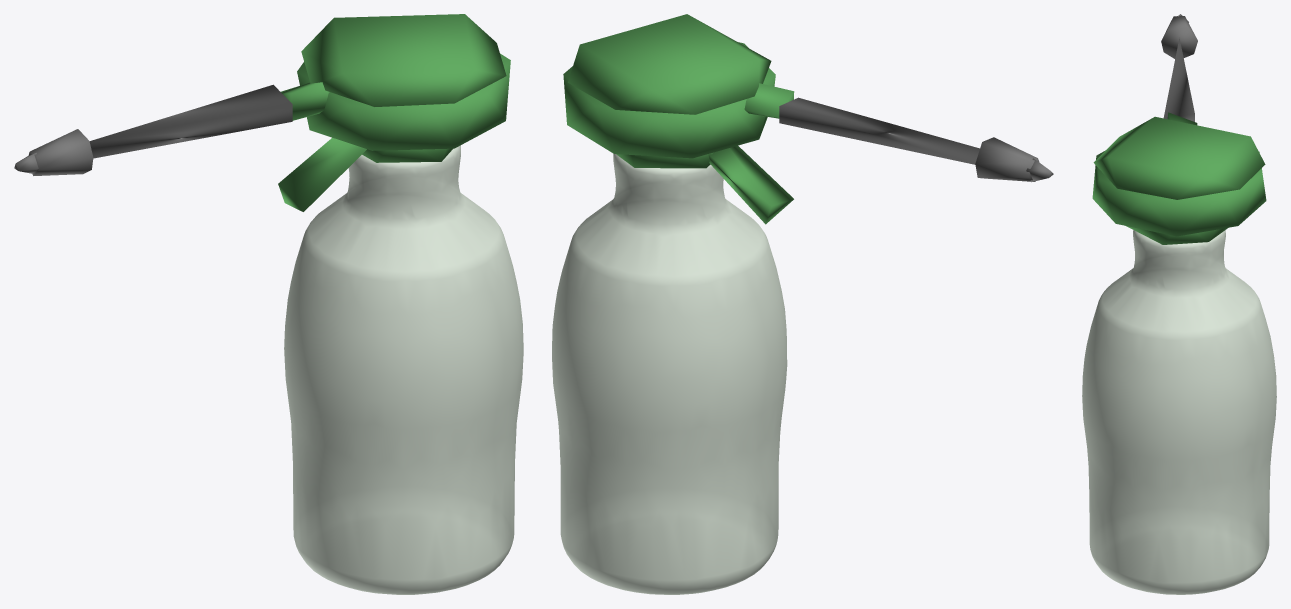
File: herbicida.fbx
3 renders of one model, left to right at view 1: azimuth 30°, elevation 25°; view 2: azimuth 150°, elevation 25°; view 3: azimuth 270°, elevation 25°, orthographic. The views are drawn at different scales.
Parts seen in each view (by area): view 1: Frasco.001, Tampa_Bomba.001, Tubo_Lance.001, Gatilho.001, Bico.001; view 2: Frasco.001, Tampa_Bomba.001, Tubo_Lance.001, Gatilho.001, Bico.001; view 3: Frasco.001, Tampa_Bomba.001, Tubo_Lance.001, Bico.001.
Boxes of the visible parts, <box> form: Frasco.001: <box>284,145,523,594</box>; Tampa_Bomba.001: <box>280,14,510,162</box>; Tubo_Lance.001: <box>89,84,292,158</box>; Gatilho.001: <box>278,137,366,211</box>; Bico.001: <box>14,129,93,175</box>; Frasco.001: <box>552,154,787,594</box>; Tampa_Bomba.001: <box>563,14,794,168</box>; Tubo_Lance.001: <box>779,97,979,164</box>; Gatilho.001: <box>708,145,793,224</box>; Bico.001: <box>975,137,1053,182</box>; Frasco.001: <box>1082,230,1276,594</box>; Tampa_Bomba.001: <box>1092,112,1266,244</box>; Tubo_Lance.001: <box>1163,37,1194,121</box>; Bico.001: <box>1161,14,1197,58</box>.
Size of the model in its own units: 0.2966 by 0.1253 by 0.2952.
